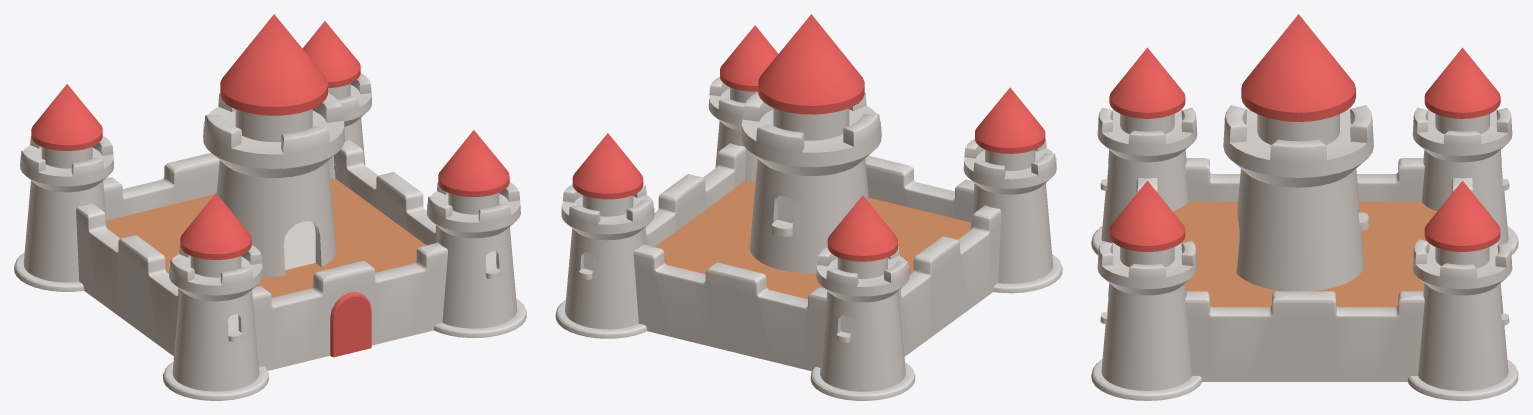
File: castle.glb
3 views of the same model, side by side, from view 1: azimuth 30°, elevation 25°; view 2: azimuth 150°, elevation 25°; view 3: azimuth 270°, elevation 25° (orthographic). The views are drawn at different scales.
Visible parts, largest first — view 1: Castle; view 2: Castle; view 3: Castle.
Part boxes in pixels (x1,y1,x2,y2): Castle: (14, 14, 526, 400); Castle: (555, 14, 1062, 400); Castle: (1091, 14, 1518, 400).
Bounding box in the file's own units: 11.76 × 9.01 × 11.76.
